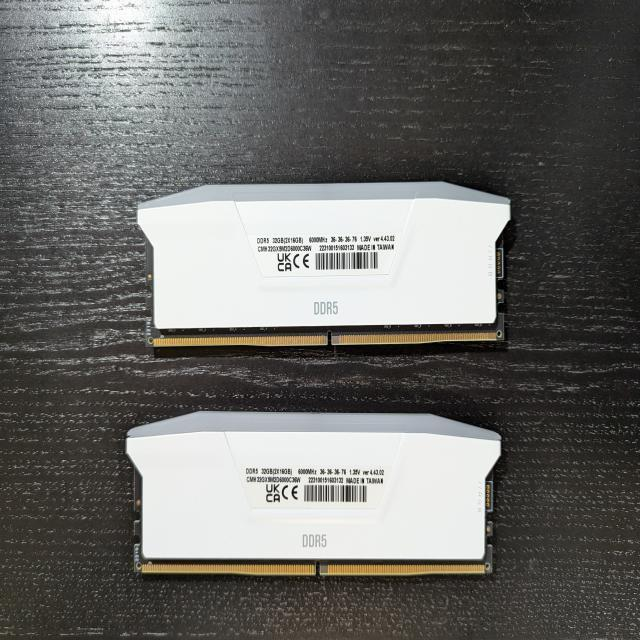RAM: (124, 408, 503, 577), (135, 184, 510, 346)
